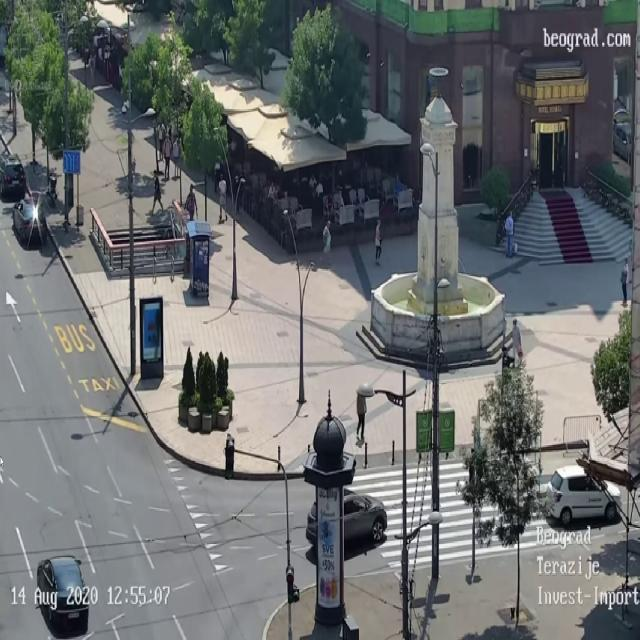car: (306, 488, 388, 550), (545, 464, 619, 527), (36, 554, 89, 633), (15, 198, 46, 246), (0, 157, 28, 196)
